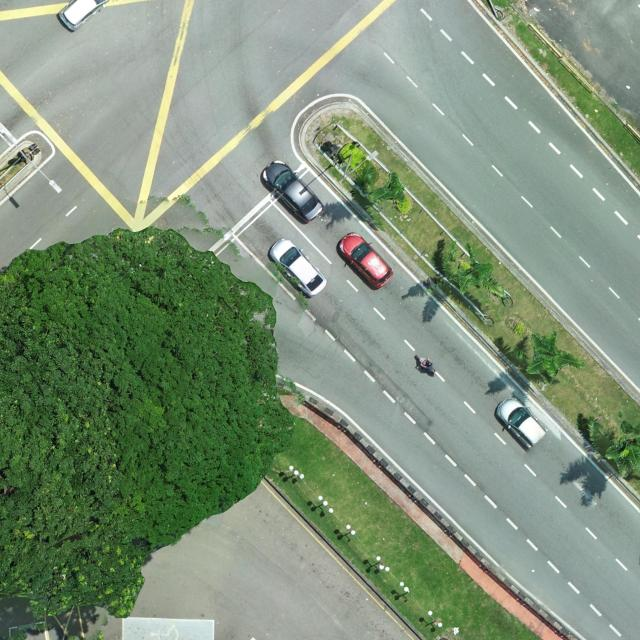Tree: (0, 225, 295, 621), (427, 241, 505, 299), (512, 330, 586, 386), (351, 160, 406, 231), (586, 408, 640, 479)
